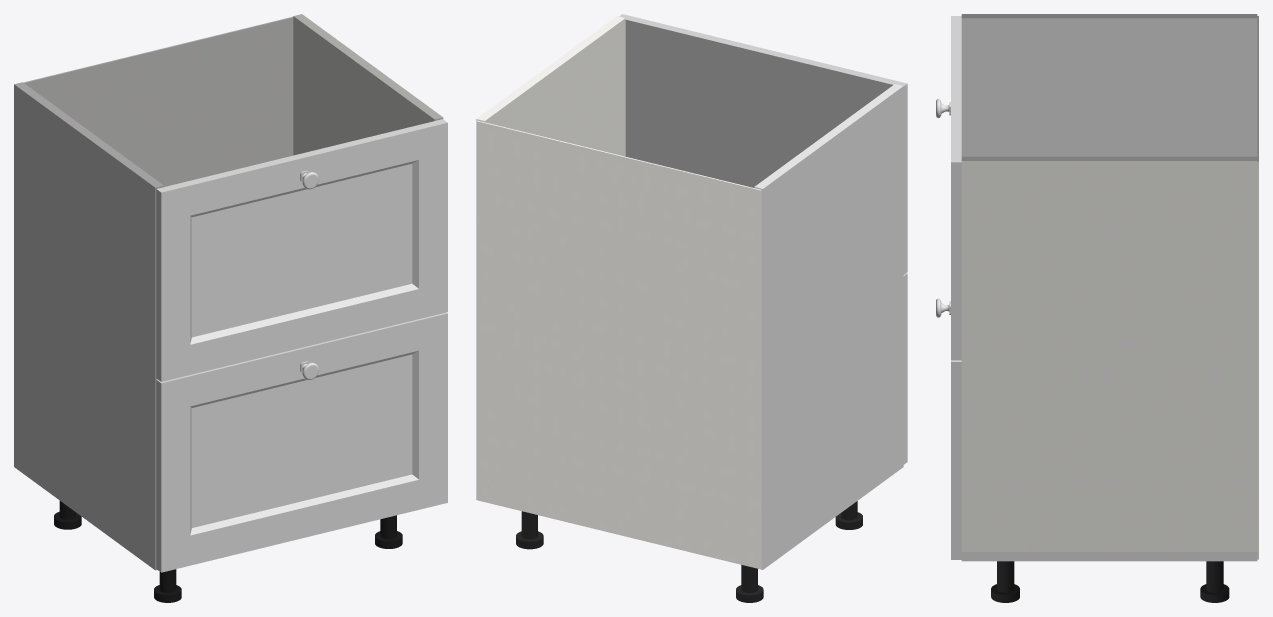
Rendered from 1003-HOB-60-frc.glb.
The picture shows the model from 3 angles, left to right: view 1: azimuth 30°, elevation 25°; view 2: azimuth 150°, elevation 25°; view 3: azimuth 270°, elevation 25°; orthographic projection. The views are drawn at different scales.
Parts seen in each view (by area): view 1: door, carcass, plinth, handle; view 2: carcass, door, plinth; view 3: carcass, door, plinth.
Part boxes in pixels (x1,y1,x2,y2): door: [156, 119, 447, 572]; carcass: [14, 14, 443, 570]; plinth: [54, 501, 402, 602]; handle: [300, 170, 318, 379]; carcass: [476, 16, 903, 569]; door: [619, 14, 907, 464]; plinth: [516, 501, 862, 602]; carcass: [961, 14, 1258, 561]; door: [951, 16, 961, 559]; plinth: [991, 561, 1229, 602].
Size of the model in its own units: 0.6 by 0.862 by 0.557.
5 materials, 2 textured.
